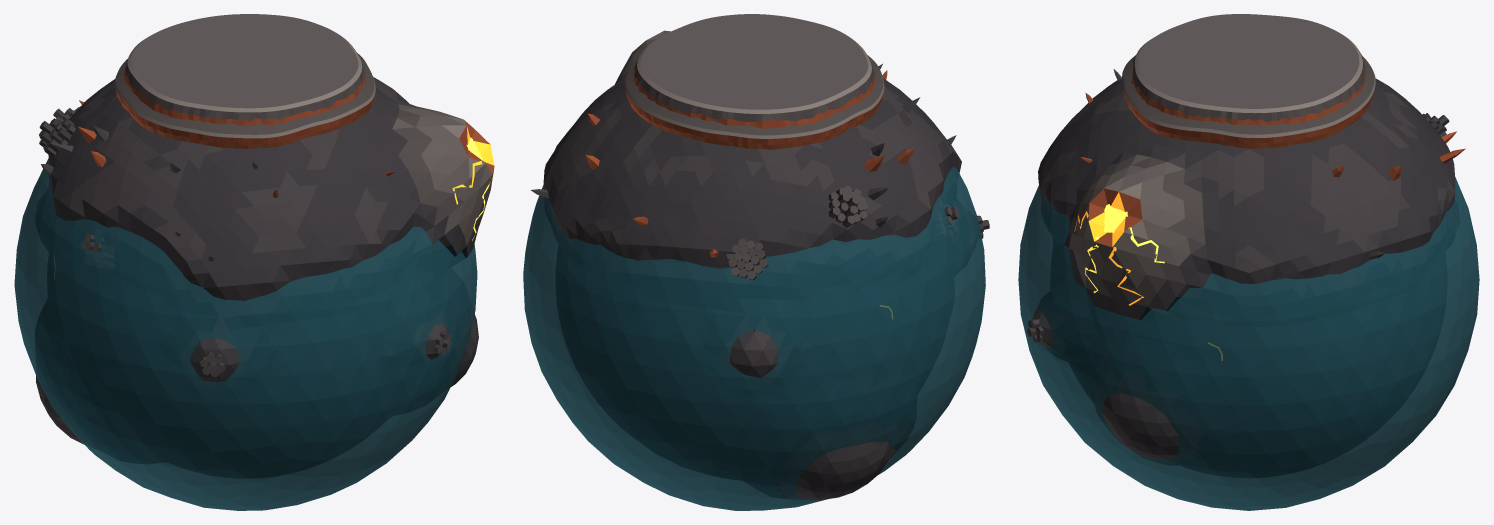
File: 06_EmberShoal.glb
3 renders of one model, left to right at view 1: azimuth 30°, elevation 25°; view 2: azimuth 150°, elevation 25°; view 3: azimuth 270°, elevation 25°, orthographic.
Visible parts, largest first — view 1: EmberShoal_Body, EmberShoal_Ocean, EmberShoal_BuildArea, EmberShoal_Terraces, EmberShoal_Deco_BasaltColumns, EmberShoal_Deco_SharpRocks; view 2: EmberShoal_Body, EmberShoal_Ocean, EmberShoal_BuildArea, EmberShoal_Terraces, EmberShoal_Deco_BasaltColumns, EmberShoal_Deco_SharpRocks; view 3: EmberShoal_Body, EmberShoal_Ocean, EmberShoal_BuildArea, EmberShoal_Terraces, EmberShoal_Deco_LavaCracks, EmberShoal_Deco_SharpRocks, EmberShoal_Deco_BasaltColumns.
Boxes of the visible parts, box(x1,y1,x2,y2) form: EmberShoal_Body: box(35, 77, 494, 477); EmberShoal_Ocean: box(14, 158, 477, 510); EmberShoal_BuildArea: box(124, 14, 365, 125); EmberShoal_Terraces: box(114, 53, 375, 148); EmberShoal_Deco_BasaltColumns: box(39, 106, 451, 377); EmberShoal_Deco_SharpRocks: box(41, 100, 395, 261); EmberShoal_Body: box(543, 30, 975, 500); EmberShoal_Ocean: box(523, 166, 985, 510); EmberShoal_BuildArea: box(633, 14, 875, 128); EmberShoal_Terraces: box(625, 55, 884, 149); EmberShoal_Deco_BasaltColumns: box(726, 185, 989, 280); EmberShoal_Deco_SharpRocks: box(530, 64, 956, 257); EmberShoal_Body: box(1032, 77, 1458, 477); EmberShoal_Ocean: box(1018, 176, 1479, 510); EmberShoal_BuildArea: box(1132, 14, 1366, 125); EmberShoal_Terraces: box(1122, 55, 1375, 148); EmberShoal_Deco_LavaCracks: box(1074, 204, 1222, 360); EmberShoal_Deco_SharpRocks: box(1080, 69, 1465, 259); EmberShoal_Deco_BasaltColumns: box(1027, 113, 1449, 342).
Size of the model in its own units: 2 by 2.04 by 2.
